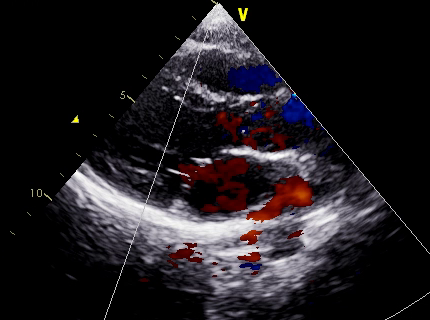AR: (216, 103, 288, 155)
